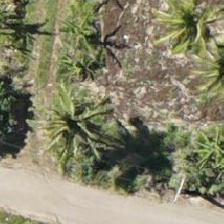coconut_tree: (45, 93, 135, 183), (164, 3, 223, 93)
